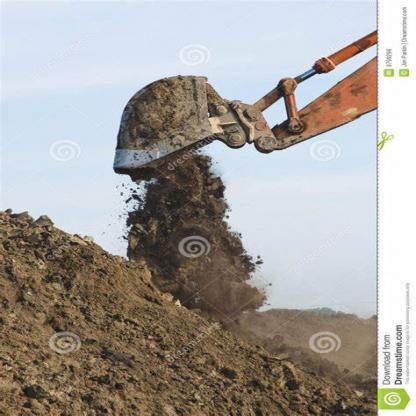excavator: (116, 9, 374, 209)
